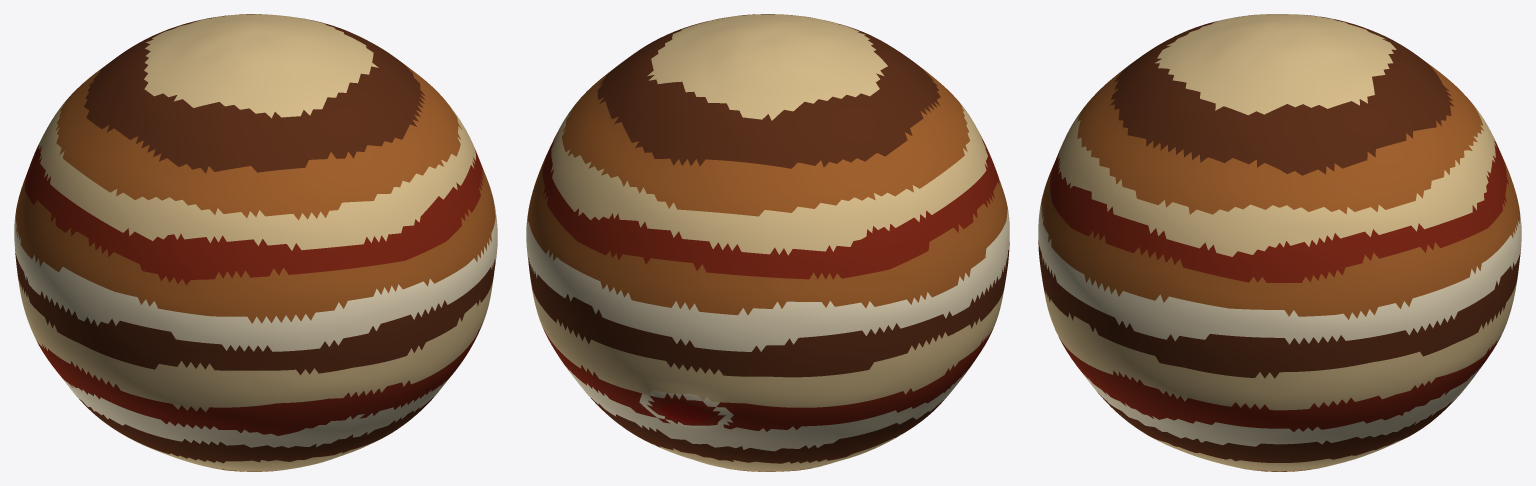
Rendered from CELESTIAL_04_Jupiter.obj.
3 views of the same model, side by side, from view 1: azimuth 30°, elevation 25°; view 2: azimuth 150°, elevation 25°; view 3: azimuth 270°, elevation 25° (orthographic).
Visible parts, largest first — view 1: CELESTIAL_04_Jupiter_Jupiter; view 2: CELESTIAL_04_Jupiter_Jupiter; view 3: CELESTIAL_04_Jupiter_Jupiter.
Part boxes in pixels (<box>): CELESTIAL_04_Jupiter_Jupiter: <box>14,14,497,471</box>; CELESTIAL_04_Jupiter_Jupiter: <box>526,14,1009,471</box>; CELESTIAL_04_Jupiter_Jupiter: <box>1038,14,1521,471</box>.
Size of the model in its own units: 2 by 1.87 by 2.
